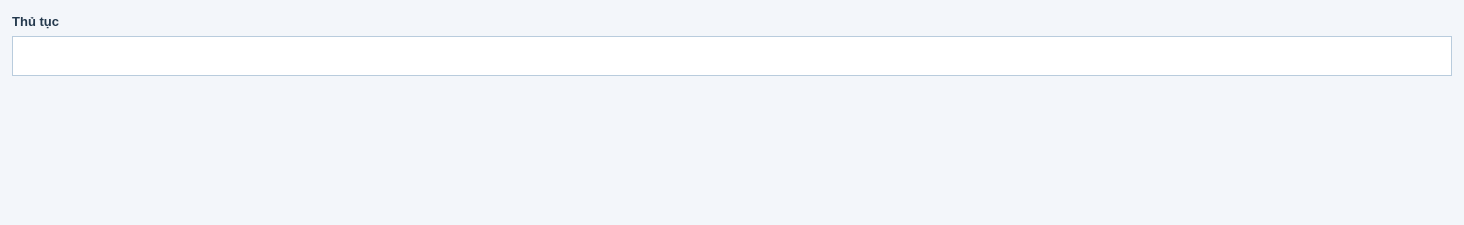
Test: Combobox › ↓ ↑ đổi mục đang chọn, Enter chọn và KHÔNG gửi biểu mẫu
The width and height of the screenshot is (1464, 225).
Click the dropdown.
click(732, 56)  # box top-left (12, 36), bottom-right (1452, 76)
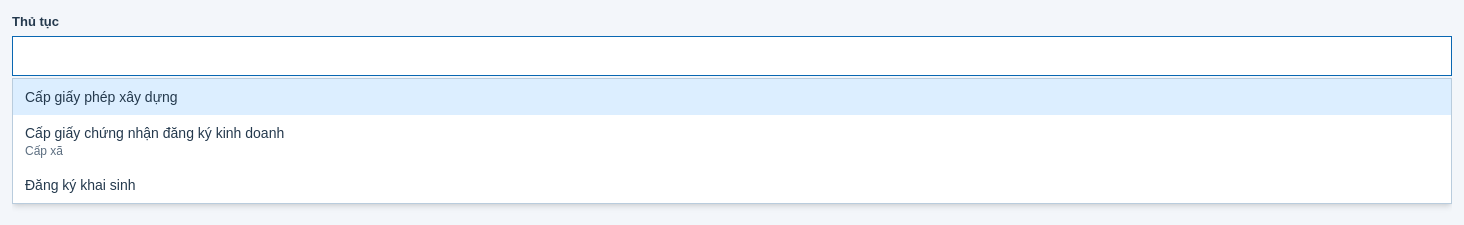
Press Arrowdown
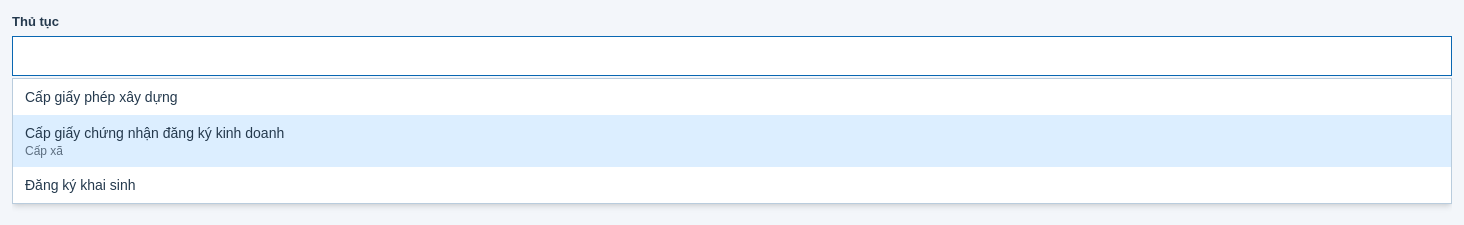
Expected: the option "Cấp giấy chứng nhận đăng ký kinh doanh Cấp xã" is selected, top-left (13, 115), bottom-right (1451, 167)
Press Arrowup Arrowdown Enter
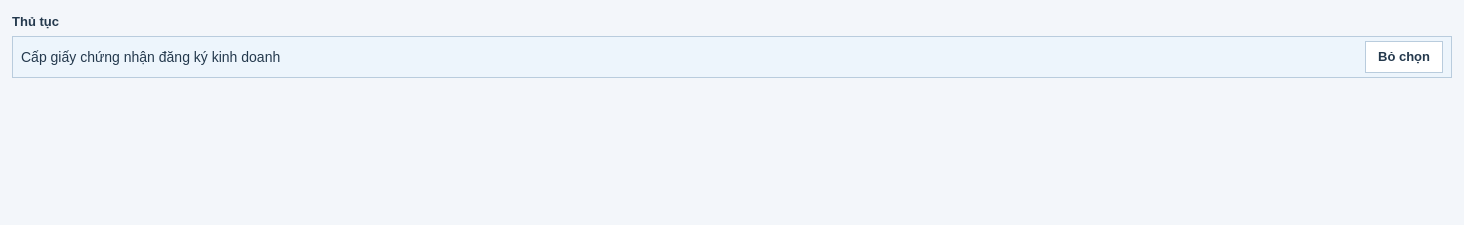
Expected: the text "Cấp giấy chứng nhận đăng ký kinh doanh" is shown, top-left (21, 47), bottom-right (280, 67)
Expected: the dropdown is gone
